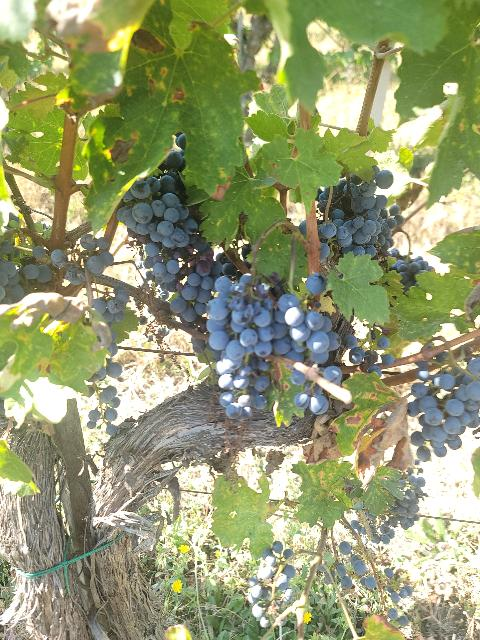grapes: (116, 149, 208, 291), (206, 274, 270, 420), (408, 356, 480, 461), (320, 170, 405, 258), (86, 286, 129, 435), (272, 294, 341, 362), (170, 275, 232, 322)
